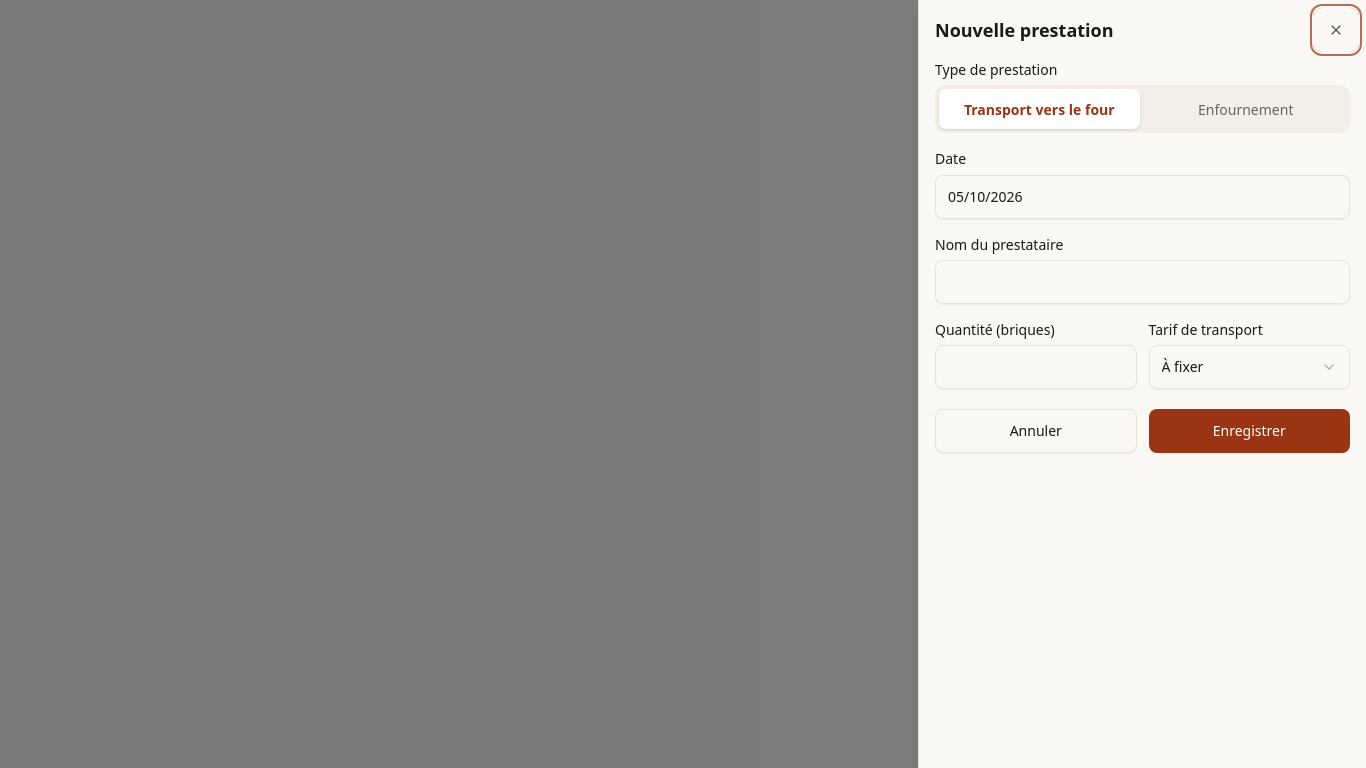
NewContractorWorkPage › requires a name and a whole positive quantity
In the field labelled "Quantité (briques)": (1036, 367) [935,345,1136,389], type "0"
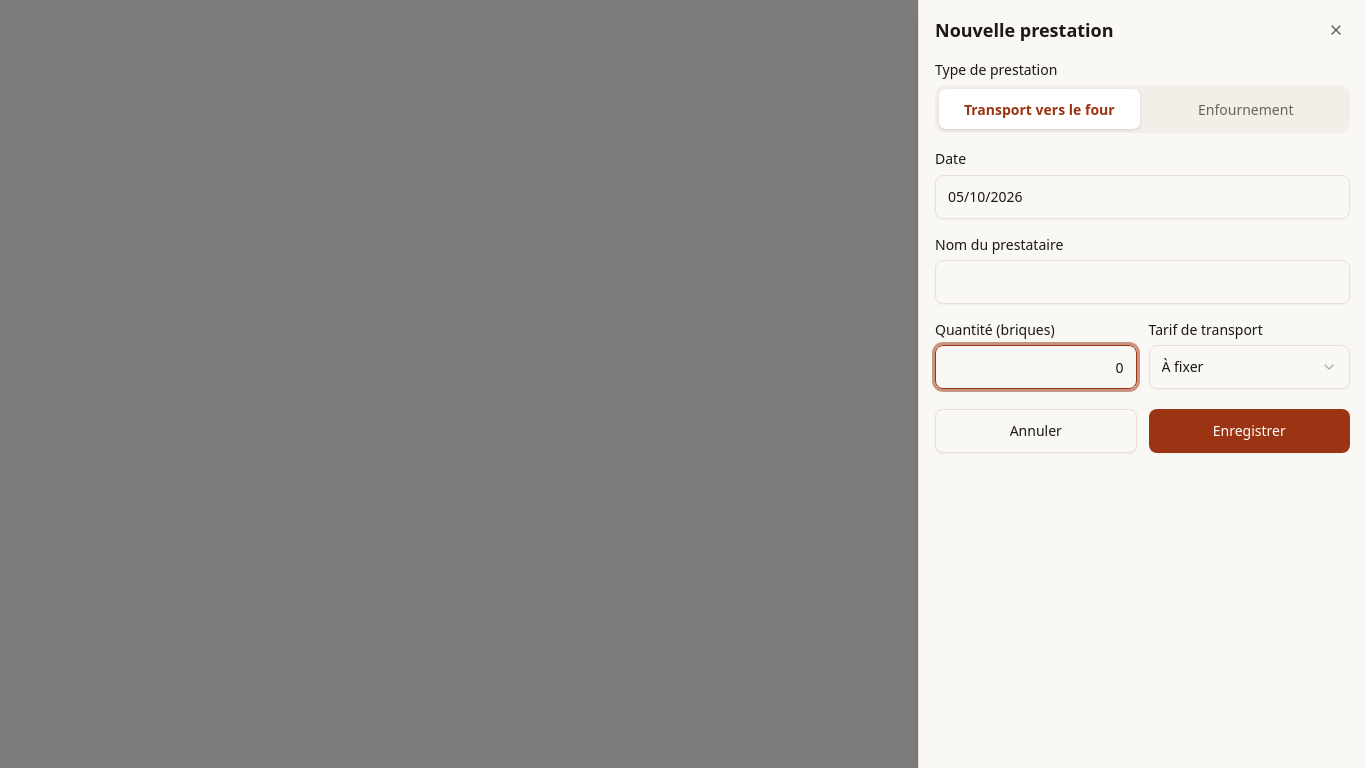
Click the button "Enregistrer": click(1249, 431) [1148,409,1350,453]
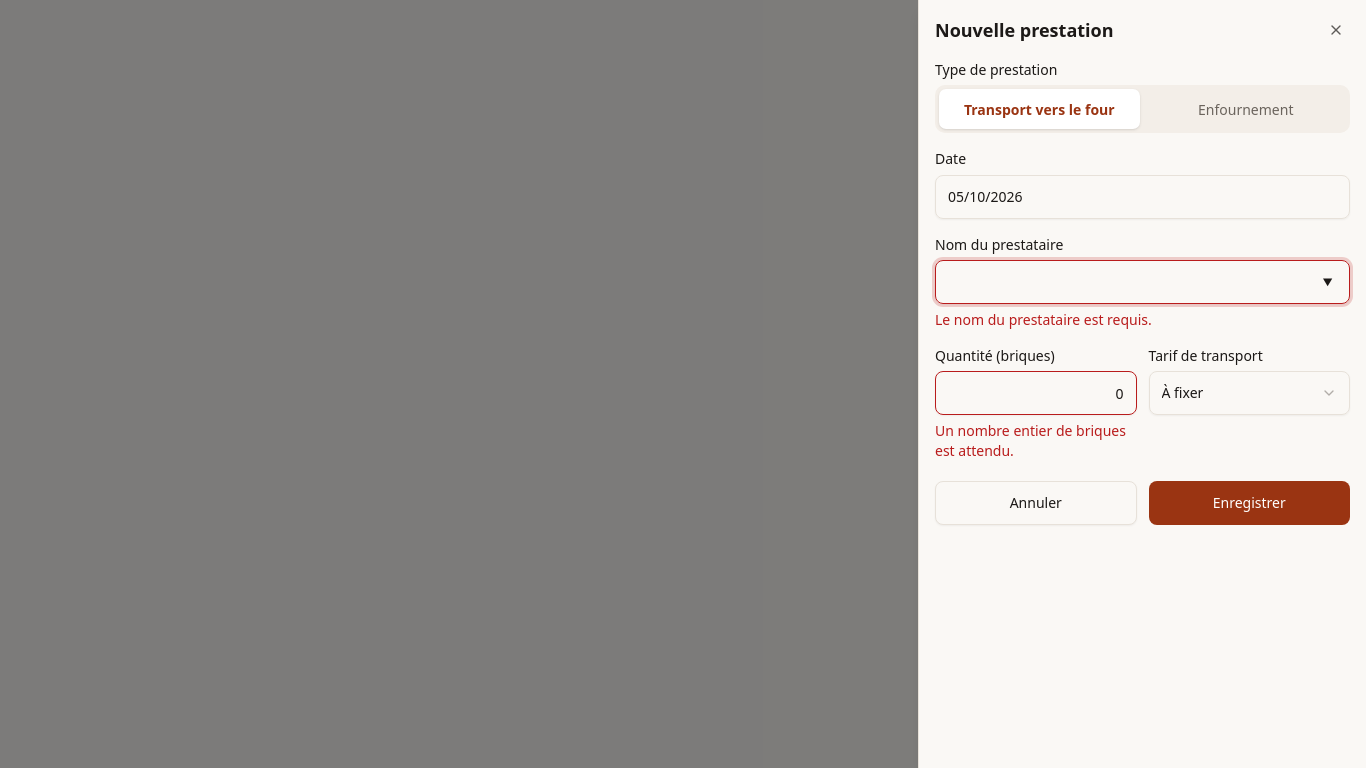
Expected: the messages read "Le nom du prestataire est requis.", "Un nombre entier de briques est attendu.", in this order, [935,310,1152,329]; [935,421,1136,461]
